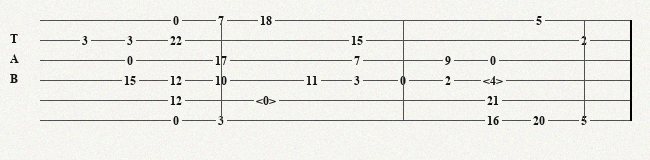0: (127, 54, 137, 67), (173, 14, 183, 27), (173, 114, 183, 127), (400, 74, 410, 87), (490, 54, 500, 67)
10: (215, 74, 231, 87)
11: (306, 74, 322, 87)
12: (170, 94, 186, 107), (170, 74, 186, 87)
15: (124, 74, 140, 87), (351, 34, 367, 47)
16: (487, 114, 503, 127)
17: (215, 54, 231, 67)
18: (260, 14, 276, 27)
2: (445, 74, 455, 87), (581, 34, 591, 47)
20: (533, 114, 549, 127)
21: (487, 94, 503, 107)
22: (170, 34, 186, 47)
3: (82, 34, 92, 47), (127, 34, 137, 47), (218, 114, 228, 127), (354, 74, 364, 87)
5: (536, 14, 546, 27), (581, 114, 591, 127)
7: (218, 14, 228, 27), (354, 54, 364, 67)
9: (445, 54, 455, 67)
harmonic: (256, 94, 280, 107), (483, 74, 507, 87)
